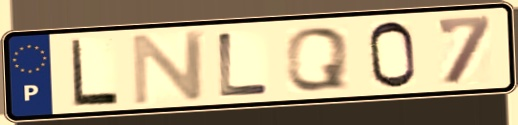0: (366, 19, 418, 91)
7: (434, 12, 495, 87)
L: (216, 30, 273, 99), (69, 36, 122, 108)
N: (129, 28, 208, 108)
Q: (283, 25, 352, 94)
